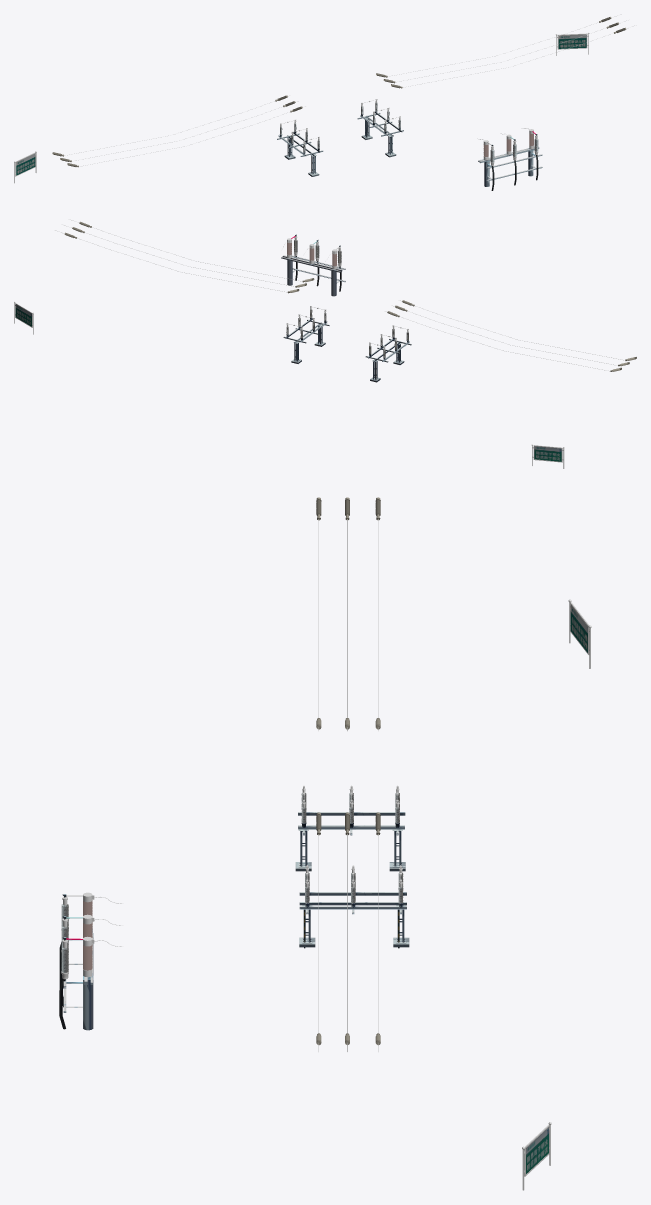
The picture shows the model from 3 angles, top to bottom: view 1: azimuth 30°, elevation 25°; view 2: azimuth 150°, elevation 25°; view 3: azimuth 270°, elevation 25°; orthographic projection. The views are drawn at different scales.
Visible parts, largest first — view 1: 7-警示牌, 7-材质.17 (×2), 7-ccc333, 7-9.1, 7-材质.10; view 2: 7-警示牌, 7-材质.17 (×2), 7-ccc333, 7-9, 7-材质.10; view 3: 7-警示牌, 7-ccc333, 7-材质.17, 7-材质.10.
Boxes of the visible parts, <box> form: 7-警示牌: <box>277,102,403,176</box>; 7-材质.17 (×2): <box>14,14,636,183</box>; 7-ccc333: <box>478,134,542,190</box>; 7-9.1: <box>16,34,586,175</box>; 7-材质.10: <box>52,17,626,167</box>; 7-警示牌: <box>283,309,411,382</box>; 7-材质.17 (×2): <box>14,219,623,468</box>; 7-ccc333: <box>281,234,345,296</box>; 7-9: <box>15,304,561,461</box>; 7-材质.10: <box>64,221,636,371</box>; 7-警示牌: <box>295,793,409,948</box>; 7-ccc333: <box>59,894,93,1030</box>; 7-材质.17: <box>318,519,378,1051</box>; 7-材质.10: <box>316,497,380,1045</box>.
Size of the model in its own units: 47.49 by 5.49 by 19.15.
Materials: 14 (4 with a texture image).
